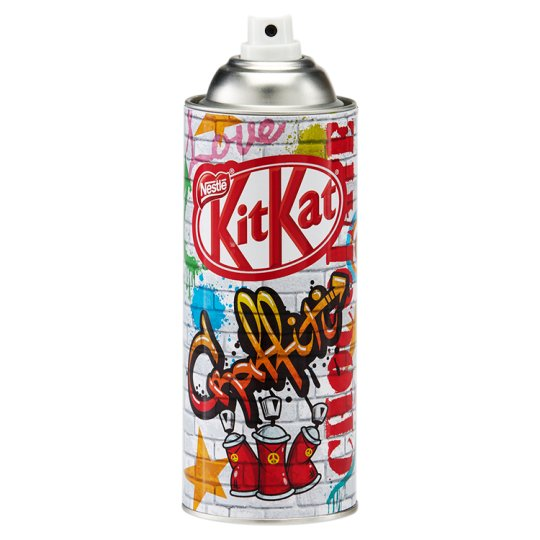Aerosol_cans: (176, 10, 366, 528)
